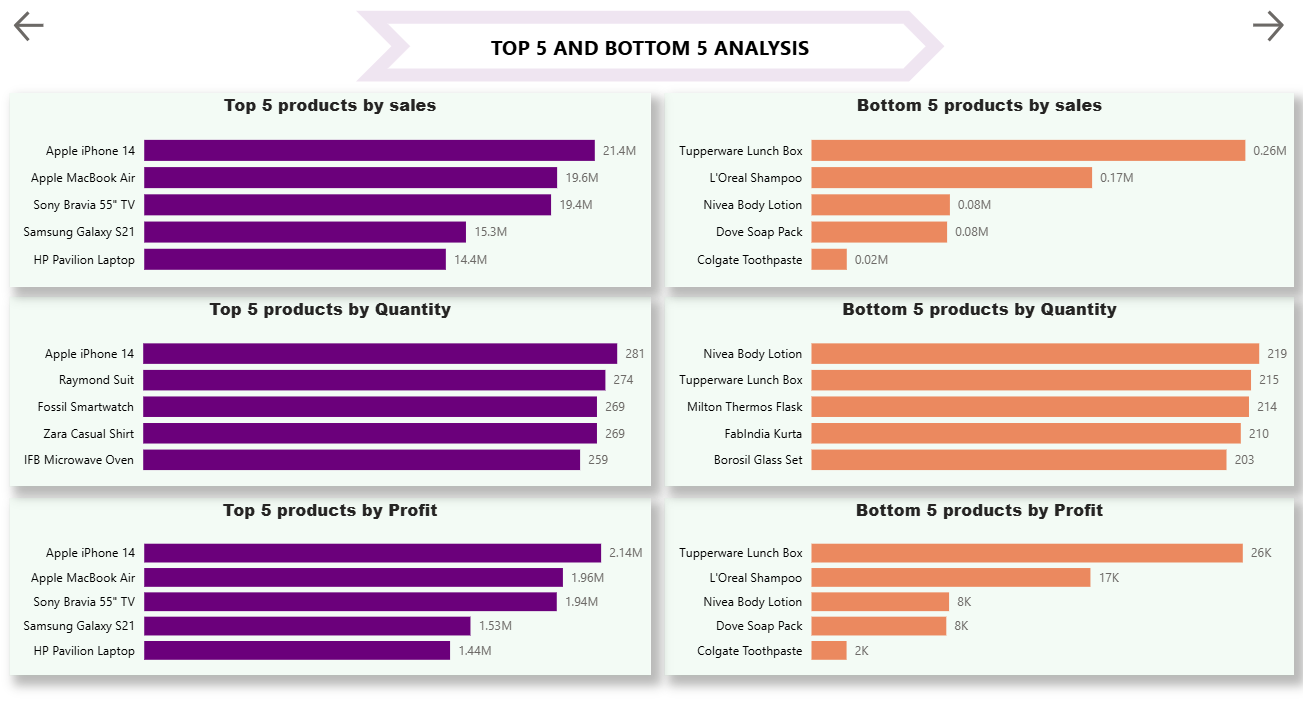

Layout of this report page (visuals, bound fields, positions):
{"tool":"powerbi","page":{"name":"Top/Bottom 5 analysis","canvas":[1280,720],"ordinal":1},"visuals":[{"type":"barChart","title":"Top 5 products by sales","fields":{"Category":["Dim Product.Product Name"],"Y":["Sum(Fact Table.Net Sales)"]},"box":[12.3,15.1,590.1,205.8],"z":0},{"type":"barChart","title":"Bottom 5 products by sales","fields":{"Category":["Dim Product.Product Name"],"Y":["Sum(Fact Table.Net Sales)"]},"box":[621.6,15.1,590.1,205.8],"z":1000},{"type":"barChart","title":"Top 5 products by Quantity","fields":{"Category":["Dim Product.Product Name"],"Y":["Sum(Fact Table.Units Sold)"]},"box":[12.3,240.1,590.1,205.8],"z":2000},{"type":"barChart","title":"Bottom 5 products by Quantity","fields":{"Category":["Dim Product.Product Name"],"Y":["Sum(Fact Table.Units Sold)"]},"box":[621.6,240.1,590.1,205.8],"z":3000},{"type":"barChart","title":"Top 5 products by Profit","fields":{"Category":["Dim Product.Product Name"],"Y":["Sum(Fact Table.Profit )"]},"box":[12.3,466.6,590.1,205.8],"z":4000},{"type":"barChart","title":"Bottom 5 products by Profit","fields":{"Category":["Dim Product.Product Name"],"Y":["Sum(Fact Table.Profit )"]},"box":[639.5,466.6,590.1,205.8],"z":5000}]}

Visuals, with their boxes in screenshot pixels (x1, y1, x2, y2), scaled from the page's 1280x720 canvas onto the 1303x712 screenshot:
"Top 5 products by sales" barChart: [13, 15, 613, 218]
"Bottom 5 products by sales" barChart: [633, 15, 1233, 218]
"Top 5 products by Quantity" barChart: [13, 237, 613, 441]
"Bottom 5 products by Quantity" barChart: [633, 237, 1233, 441]
"Top 5 products by Profit" barChart: [13, 461, 613, 665]
"Bottom 5 products by Profit" barChart: [651, 461, 1252, 665]
